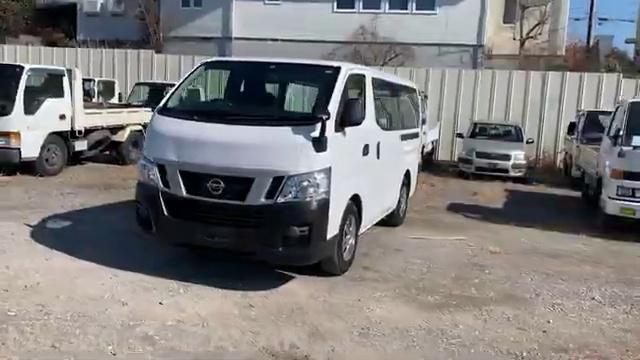van: (136, 57, 423, 270)
